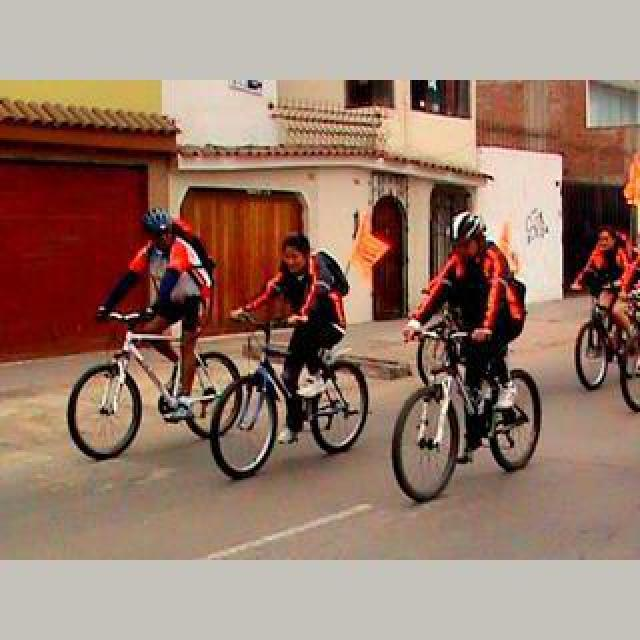MC-Bike: (406, 212, 518, 450), (98, 210, 216, 416), (232, 234, 348, 432), (572, 226, 636, 384)
Person: (391, 317, 541, 501), (210, 311, 370, 479), (67, 309, 243, 461), (574, 285, 640, 411)
